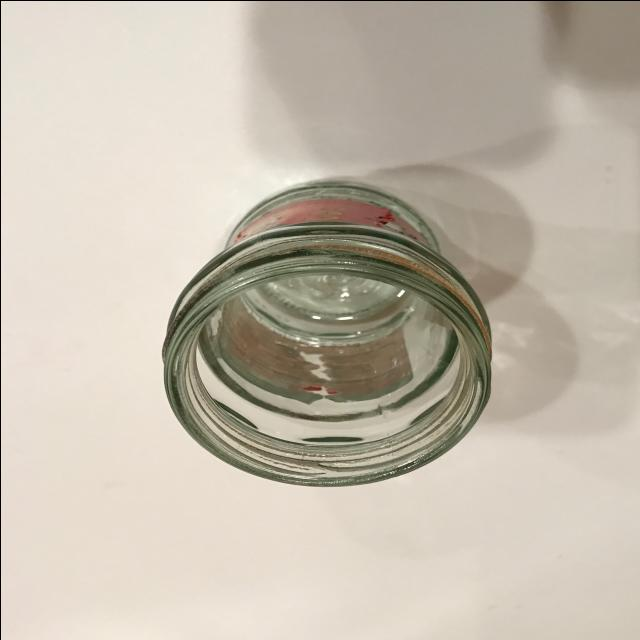glass: (157, 186, 493, 491)
